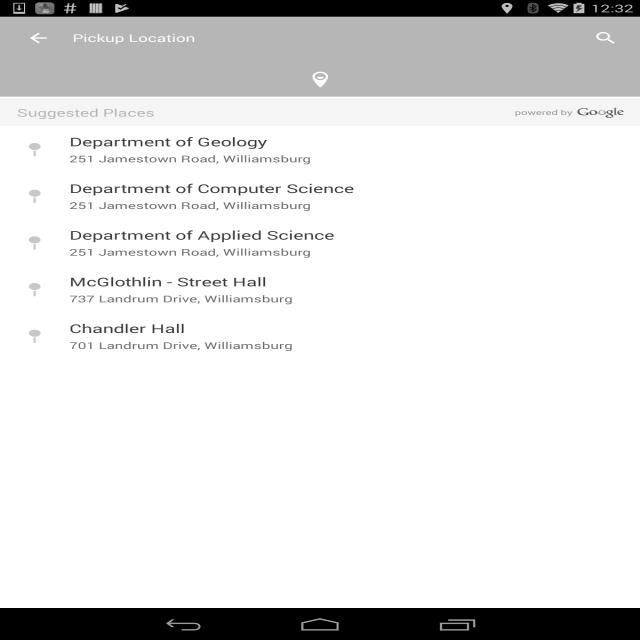ImageButton: (9, 17, 68, 59)
ImageView: (0, 60, 640, 100), (321, 107, 625, 118), (8, 133, 61, 166), (8, 226, 61, 259), (8, 273, 61, 306), (8, 180, 61, 212), (8, 320, 61, 352)
TextView: (17, 105, 321, 120), (69, 180, 354, 196), (70, 227, 334, 243), (70, 133, 268, 150), (69, 273, 267, 290), (70, 152, 312, 165), (70, 199, 312, 212), (69, 292, 293, 305), (69, 339, 293, 352), (70, 246, 312, 258), (69, 320, 185, 336), (73, 31, 195, 45), (580, 22, 632, 54)
